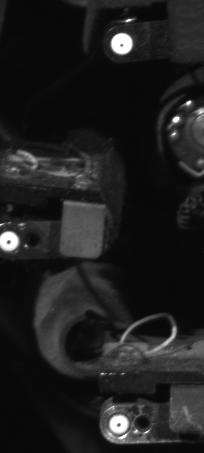fiber: (104, 408, 136, 439), (106, 29, 137, 59), (1, 226, 27, 255)
